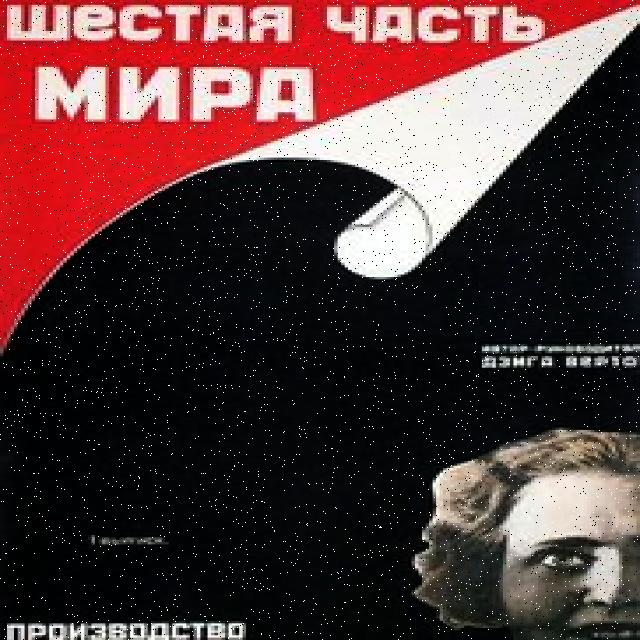movie-judul: (0, 0, 563, 147)
picture: (0, 0, 634, 640)
